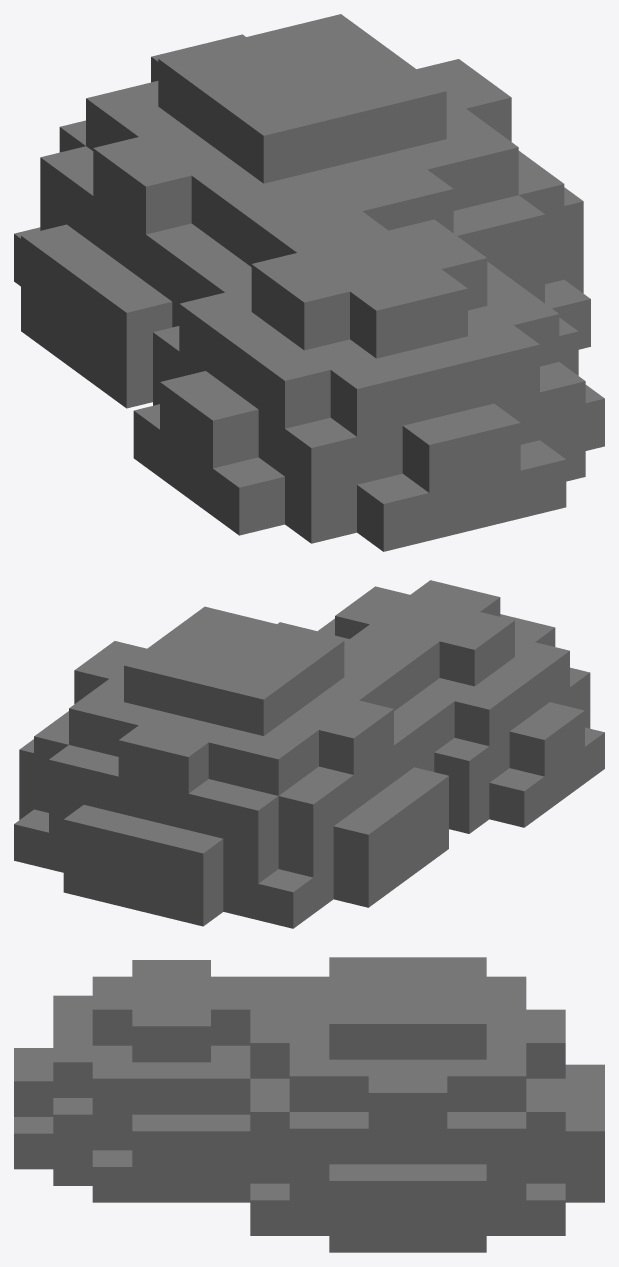
The model's file is rock.obj.
3 renders of one model, top to bottom at view 1: azimuth 30°, elevation 25°; view 2: azimuth 150°, elevation 25°; view 3: azimuth 270°, elevation 25°, orthographic. The views are drawn at different scales.
Bounding box in the file's own units: 1.1 × 0.5 × 1.5.
Materials: 1 (1 with a texture image).
